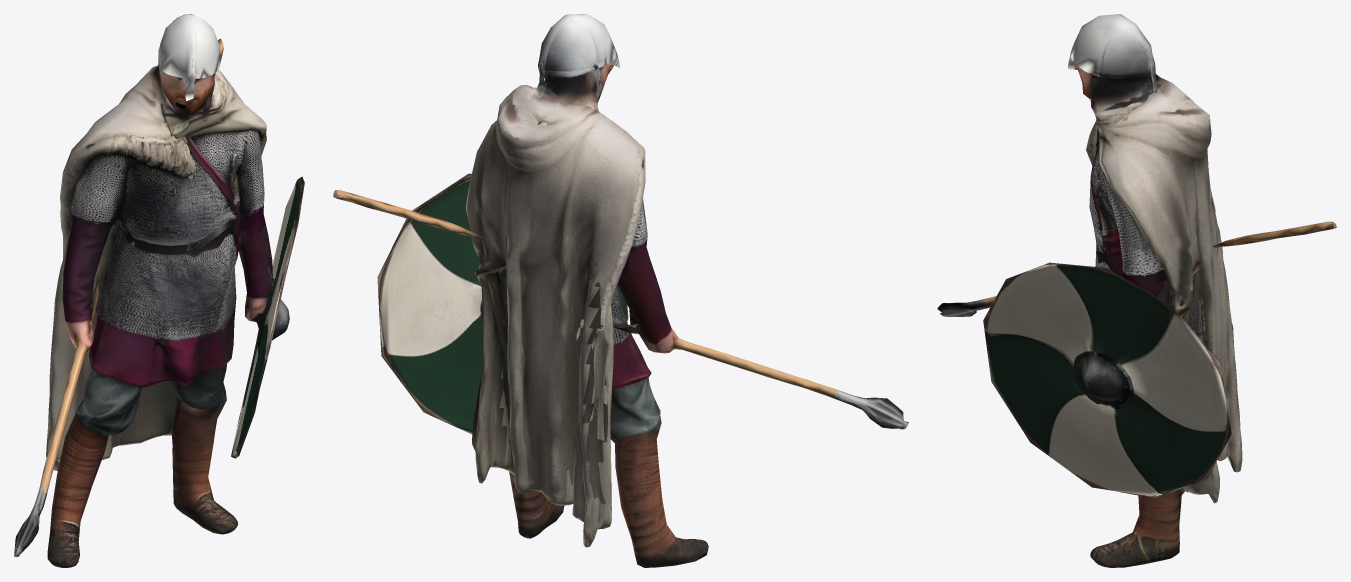
The model's file is warrior.glb.
3 renders of one model, left to right at view 1: azimuth 30°, elevation 25°; view 2: azimuth 150°, elevation 25°; view 3: azimuth 270°, elevation 25°, orthographic. The views are drawn at different scales.
Parts seen in each view (by area): view 1: Mesh0; view 2: Mesh0; view 3: Mesh0.
Boxes of the visible parts, left/top/right/bottom form: Mesh0: left=14, top=14, right=304, bottom=567; Mesh0: left=333, top=14, right=908, bottom=567; Mesh0: left=937, top=14, right=1336, bottom=567.
Size of the model in its own units: 1.47 by 1.8 by 1.22.
Materials: 1 (1 with a texture image).
